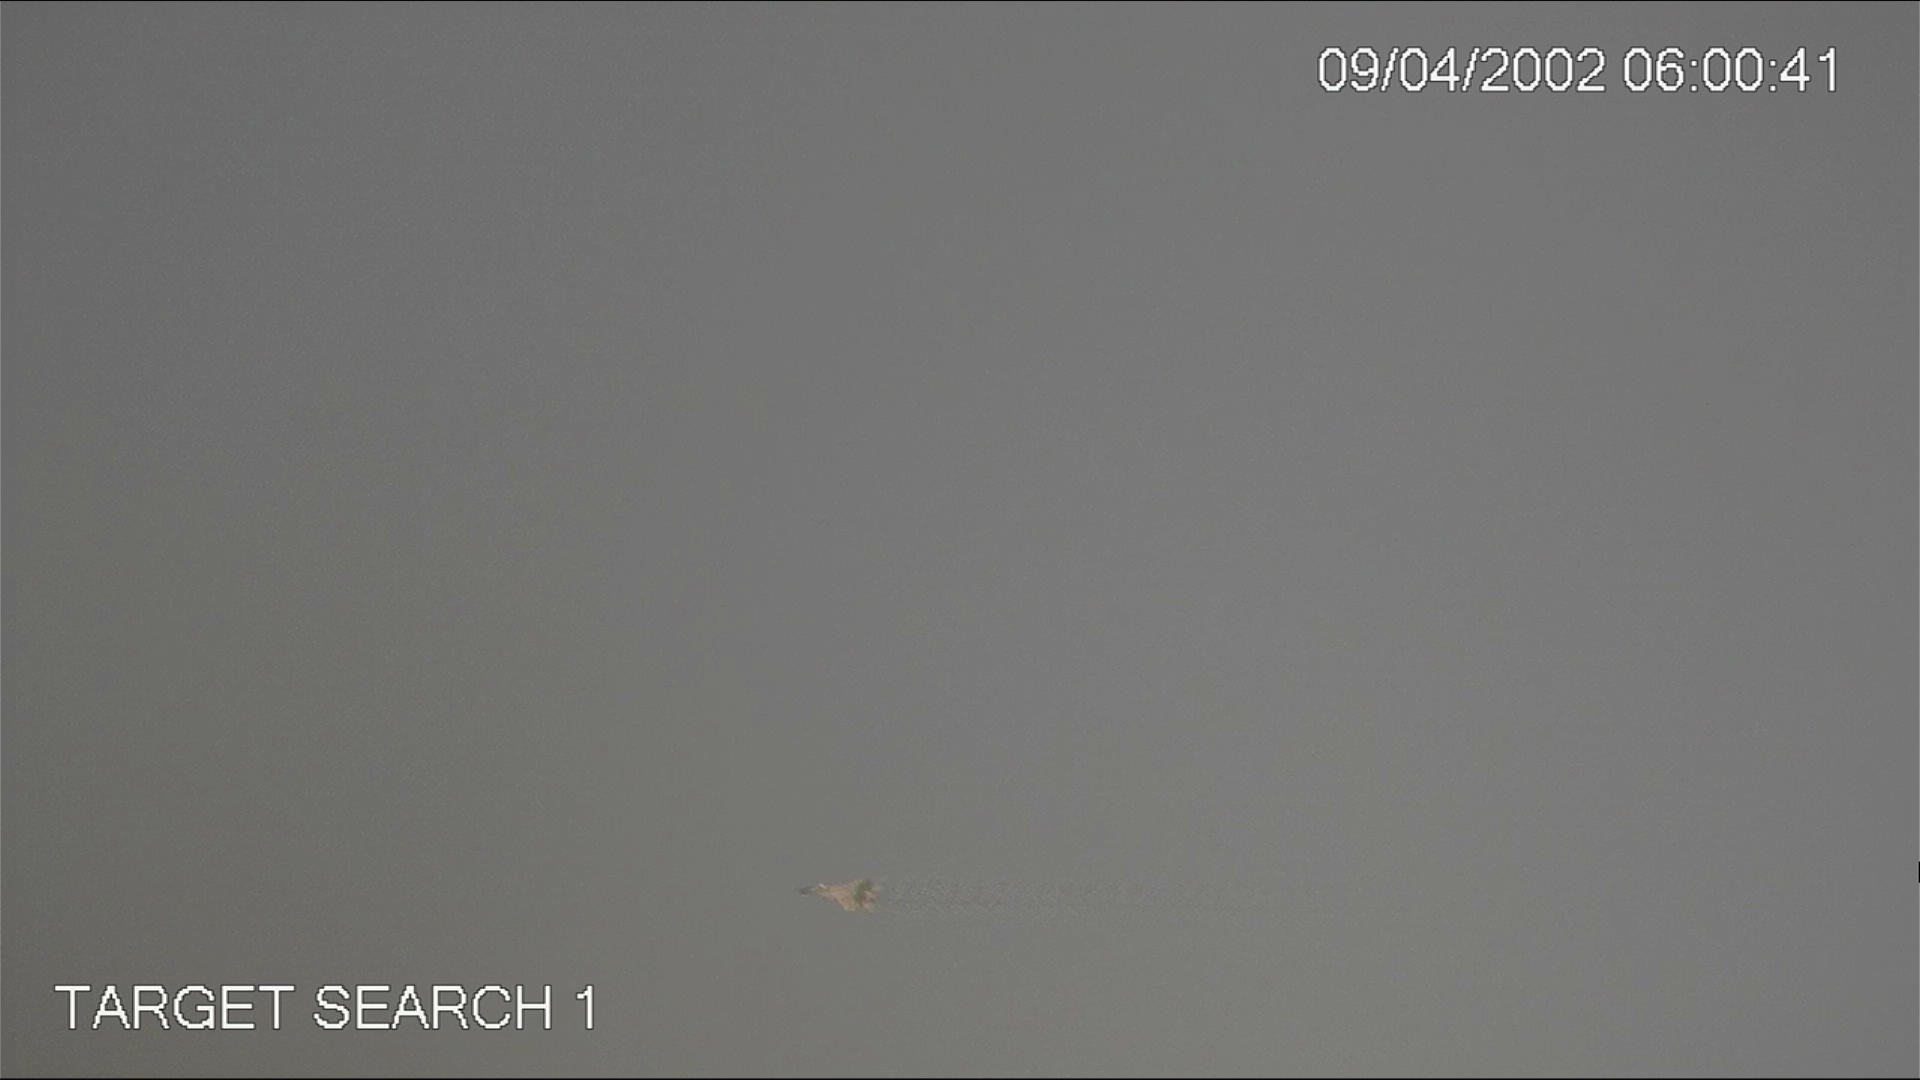SU_30: (796, 876, 880, 915)
